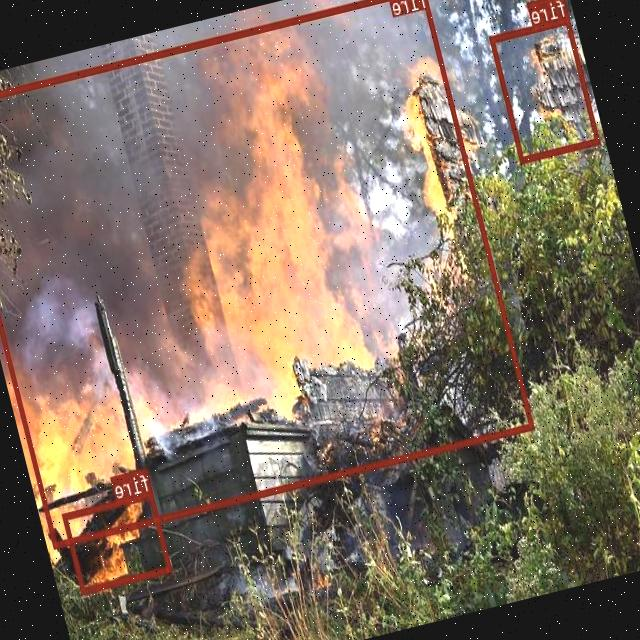fire: (0, 0, 535, 547), (490, 16, 600, 162), (63, 490, 173, 592)
